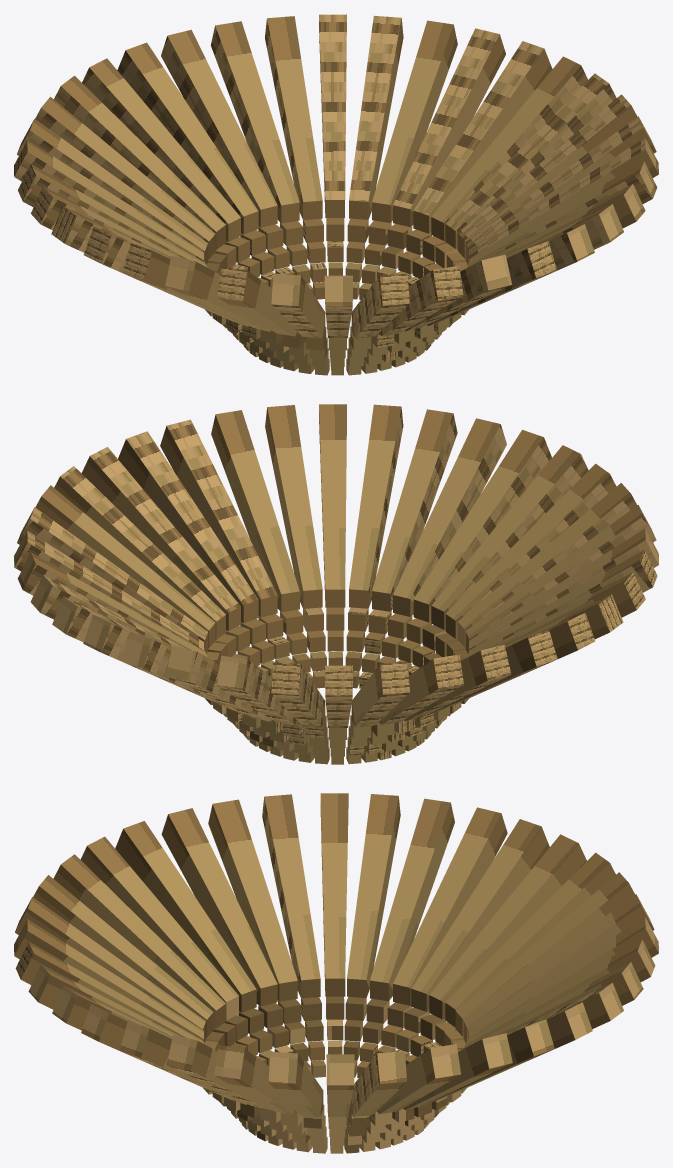
File: Aviariobase.obj
3 views of the same model, one above another, from view 1: azimuth 30°, elevation 25°; view 2: azimuth 150°, elevation 25°; view 3: azimuth 270°, elevation 25° (orthographic).
Parts seen in each view (by area): view 1: basejaula.166; view 2: basejaula.166; view 3: basejaula.166.
Part boxes in pixels (x1=…): basejaula.166: x1=14, y1=14, x2=658, y2=375; basejaula.166: x1=14, y1=404, x2=658, y2=764; basejaula.166: x1=14, y1=793, x2=658, y2=1153.
Size of the model in its own units: 4.15 by 1.34 by 4.15.
1 material, 1 textured.
